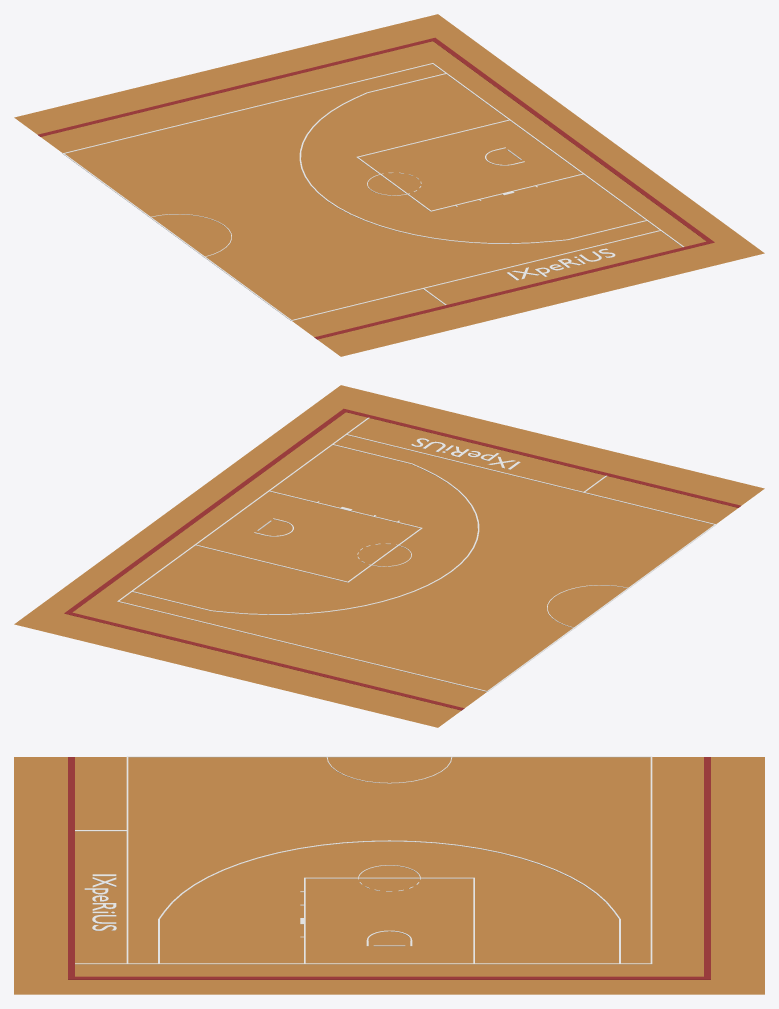
File: BascetballArea2.fbx
The picture shows the model from 3 angles, top to bottom: view 1: azimuth 30°, elevation 25°; view 2: azimuth 150°, elevation 25°; view 3: azimuth 270°, elevation 25°; orthographic projection. The views are drawn at different scales.
Visible parts, largest first — view 1: MainArea, RightArea.001, LeftArea.001, TeamOneArea.001, LeftArea, RightArea, TeamOneArea, Side, SideTeamOne, LineTopBottom, CircleRarge; view 2: MainArea, LeftArea.001, RightArea.001, TeamOneArea.001, LeftArea, RightArea, TeamOneArea, Side, SideTeamOne, LineTopBottom, CircleRarge; view 3: MainArea, RightArea.001, LeftArea.001, TeamOneArea.001, LeftArea, RightArea, TeamOneArea, Side, SideTeamOne, LineTopBottom, LineTeamOne, LineCenterArea (+2 smaller).
Boxes of the visible parts, bbox=[...] form: MainArea: bbox=[65, 64, 658, 319]; RightArea.001: bbox=[318, 241, 740, 356]; LeftArea.001: bbox=[14, 20, 437, 134]; TeamOneArea.001: bbox=[414, 14, 764, 258]; LeftArea: bbox=[41, 47, 430, 152]; RightArea: bbox=[292, 231, 682, 337]; TeamOneArea: bbox=[409, 41, 706, 246]; Side: bbox=[38, 37, 714, 339]; SideTeamOne: bbox=[430, 39, 714, 242]; LineTopBottom: bbox=[63, 63, 660, 320]; CircleRarge: bbox=[299, 92, 567, 243]; MainArea: bbox=[120, 435, 713, 690]; LeftArea.001: bbox=[38, 612, 460, 727]; RightArea.001: bbox=[341, 391, 764, 505]; TeamOneArea.001: bbox=[14, 385, 363, 629]; LeftArea: bbox=[96, 602, 486, 708]; RightArea: bbox=[348, 418, 737, 523]; TeamOneArea: bbox=[72, 412, 367, 618]; Side: bbox=[64, 408, 740, 710]; SideTeamOne: bbox=[67, 409, 347, 614]; LineTopBottom: bbox=[118, 434, 715, 691]; CircleRarge: bbox=[211, 463, 479, 614]; MainArea: bbox=[128, 757, 650, 963]; RightArea.001: bbox=[14, 757, 69, 981]; LeftArea.001: bbox=[709, 757, 764, 981]; TeamOneArea.001: bbox=[14, 980, 764, 994]; LeftArea: bbox=[652, 757, 703, 963]; RightArea: bbox=[75, 757, 126, 963]; TeamOneArea: bbox=[75, 963, 703, 976]; Side: bbox=[68, 757, 710, 979]; SideTeamOne: bbox=[69, 976, 709, 979]; LineTopBottom: bbox=[126, 756, 652, 963]; LineTeamOne: bbox=[127, 963, 652, 964]; LineCenterArea: bbox=[126, 756, 652, 757].
Bounding box in the file's own units: 1613 × 1.5 × 2150.
